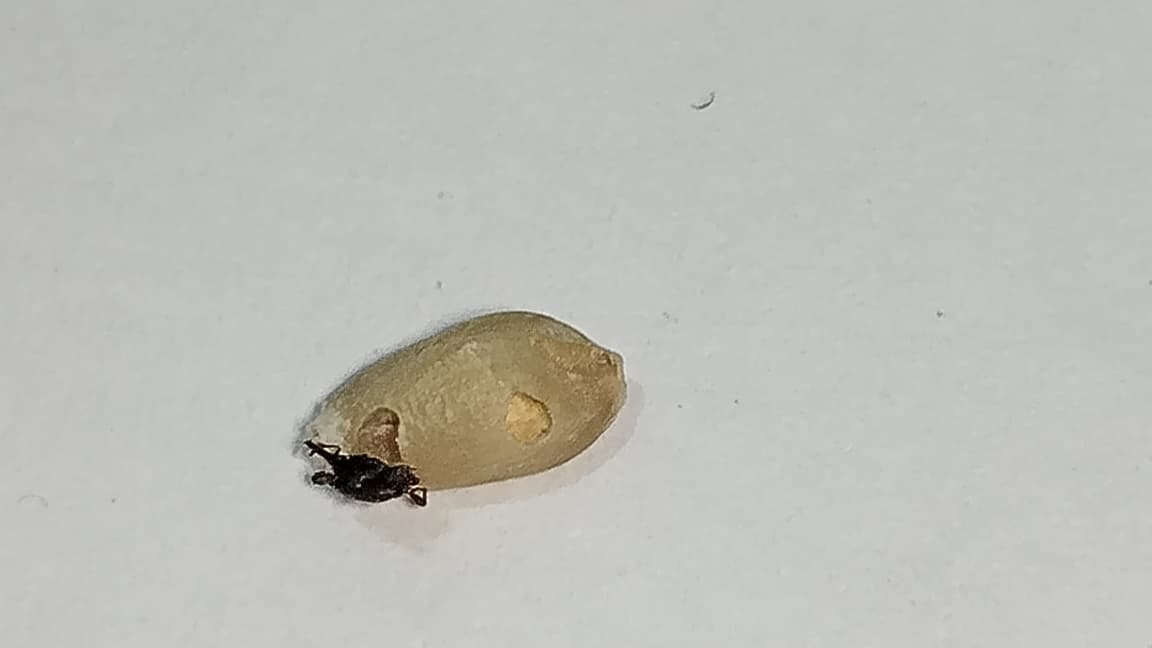damage: (300, 310, 626, 505)
insectdamage: (301, 400, 427, 506), (491, 372, 564, 451)
